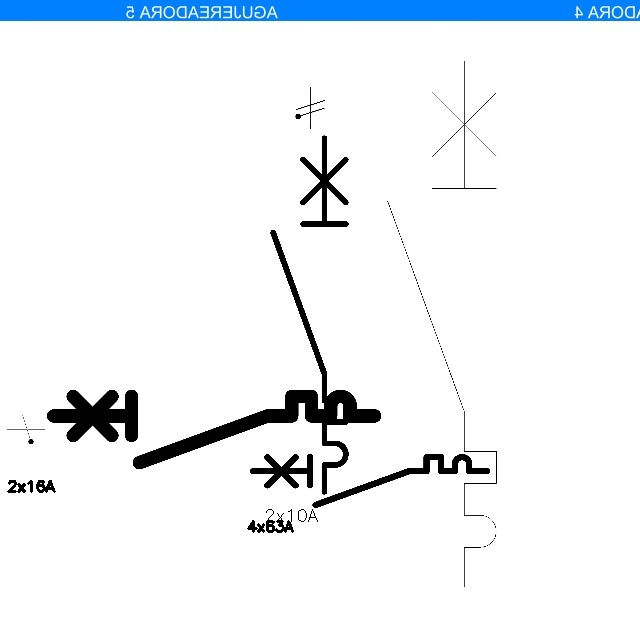interruptor_termomagnetico: (374, 47, 510, 601), (264, 129, 355, 501), (45, 388, 383, 470), (247, 451, 493, 511)
